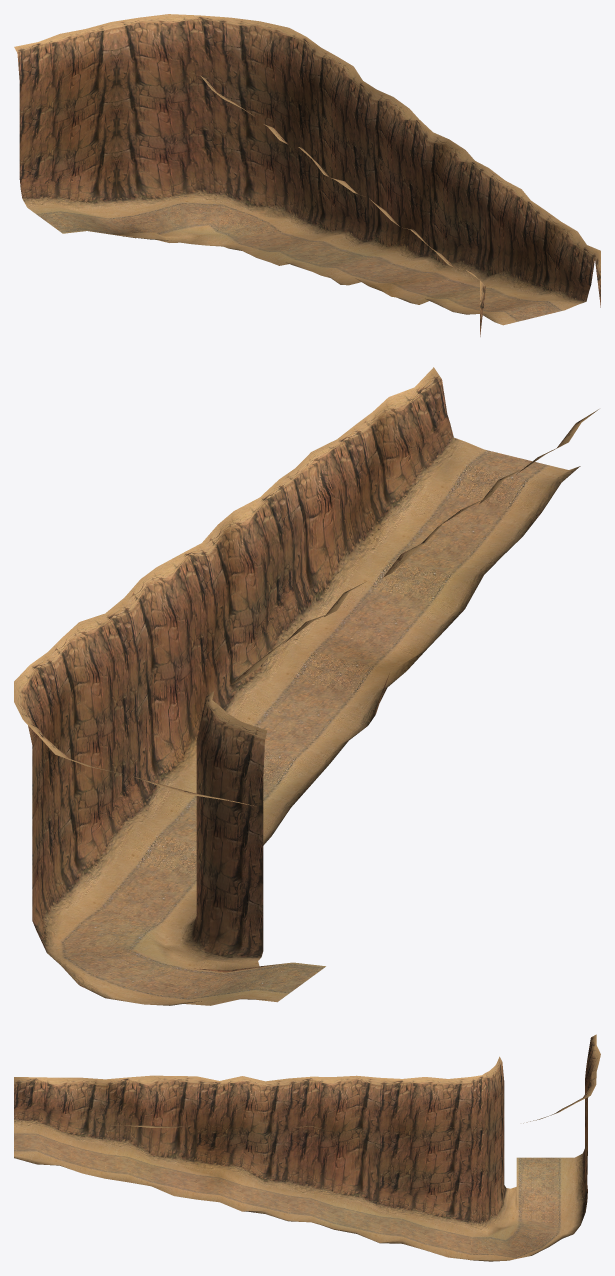
Rendered from Mis1_Zone3A.glb.
The picture shows the model from 3 angles, top to bottom: view 1: azimuth 30°, elevation 25°; view 2: azimuth 150°, elevation 25°; view 3: azimuth 270°, elevation 25°; orthographic projection. The views are drawn at different scales.
Visible parts, largest first — view 1: MIS1_ZONE3A042, MIS1_ZONE3A041, MIS1_ZONE3A040, MIS1_ZONE3A034, MIS1_ZONE3A038, MIS1_ZONE3A043, MIS1_ZONE3A039, MIS1_ZONE3A026, MIS1_ZONE3A029, MIS1_ZONE3A020, MIS1_ZONE3A023, MIS1_ZONE3A017 (+21 smaller); view 2: MIS1_ZONE3A031, MIS1_ZONE3A029, MIS1_ZONE3A023, MIS1_ZONE3A026, MIS1_ZONE3A017, MIS1_ZONE3A014, MIS1_ZONE3A011, MIS1_ZONE3A034, MIS1_ZONE3A020, MIS1_ZONE3A008, MIS1_ZONE3A005, MIS1_ZONE3A032 (+25 smaller); view 3: MIS1_ZONE3A027, MIS1_ZONE3A024, MIS1_ZONE3A021, MIS1_ZONE3A018, MIS1_ZONE3A015, MIS1_ZONE3A012, MIS1_ZONE3A009, MIS1_ZONE3A032, MIS1_ZONE3A006, MIS1_ZONE3A003, MIS1_ZONE3A, MIS1_ZONE3A031 (+26 smaller).
Part boxes in pixels (left/top/right/bottom): MIS1_ZONE3A042: left=111, top=15, right=180, bottom=214; MIS1_ZONE3A041: left=60, top=22, right=131, bottom=217; MIS1_ZONE3A040: left=14, top=34, right=82, bottom=213; MIS1_ZONE3A034: left=257, top=28, right=320, bottom=231; MIS1_ZONE3A038: left=180, top=17, right=256, bottom=227; MIS1_ZONE3A043: left=162, top=14, right=223, bottom=201; MIS1_ZONE3A039: left=231, top=17, right=288, bottom=215; MIS1_ZONE3A026: left=314, top=66, right=376, bottom=247; MIS1_ZONE3A029: left=285, top=47, right=353, bottom=239; MIS1_ZONE3A020: left=369, top=109, right=432, bottom=263; MIS1_ZONE3A023: left=342, top=90, right=409, bottom=255; MIS1_ZONE3A017: left=397, top=132, right=465, bottom=271; MIS1_ZONE3A031: left=193, top=705, right=267, bottom=972; MIS1_ZONE3A029: left=47, top=622, right=135, bottom=907; MIS1_ZONE3A023: left=124, top=567, right=196, bottom=815; MIS1_ZONE3A026: left=80, top=597, right=174, bottom=861; MIS1_ZONE3A017: left=202, top=511, right=289, bottom=724; MIS1_ZONE3A014: left=234, top=479, right=328, bottom=678; MIS1_ZONE3A011: left=279, top=452, right=367, bottom=632; MIS1_ZONE3A034: left=14, top=652, right=96, bottom=941; MIS1_ZONE3A020: left=157, top=543, right=251, bottom=764; MIS1_ZONE3A008: left=312, top=424, right=405, bottom=586; MIS1_ZONE3A005: left=357, top=397, right=444, bottom=540; MIS1_ZONE3A032: left=136, top=691, right=218, bottom=968; MIS1_ZONE3A027: left=425, top=1077, right=470, bottom=1236; MIS1_ZONE3A024: left=379, top=1077, right=425, bottom=1225; MIS1_ZONE3A021: left=334, top=1075, right=379, bottom=1215; MIS1_ZONE3A018: left=288, top=1076, right=333, bottom=1204; MIS1_ZONE3A015: left=242, top=1076, right=288, bottom=1194; MIS1_ZONE3A012: left=196, top=1076, right=242, bottom=1184; MIS1_ZONE3A009: left=151, top=1075, right=196, bottom=1173; MIS1_ZONE3A032: left=471, top=1073, right=516, bottom=1239; MIS1_ZONE3A006: left=105, top=1075, right=150, bottom=1163; MIS1_ZONE3A003: left=59, top=1077, right=105, bottom=1153; MIS1_ZONE3A: left=14, top=1077, right=59, bottom=1141; MIS1_ZONE3A031: left=485, top=1056, right=516, bottom=1218.
Size of the model in its own units: 38.77 by 28.88 by 103.
5 materials, 5 textured.
